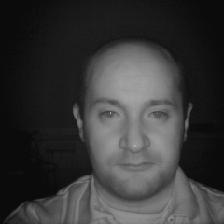normal: (81, 39, 195, 197)
